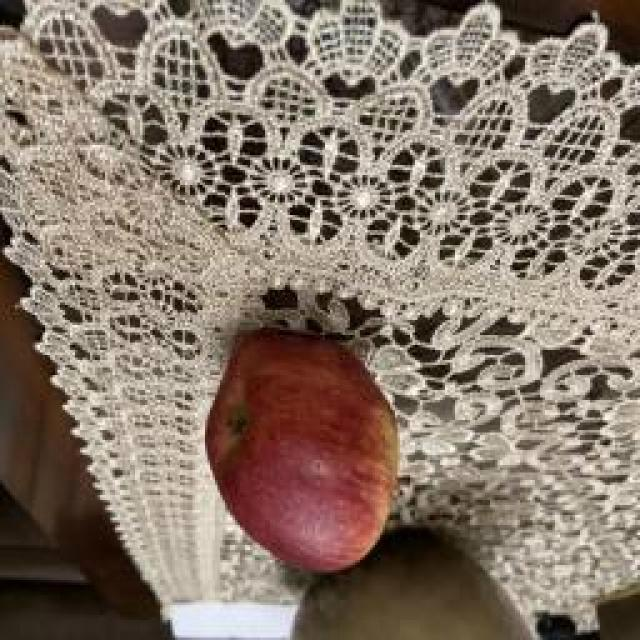apple: (206, 329, 397, 570)
